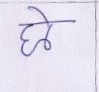o_matra: (39, 8, 54, 51)
